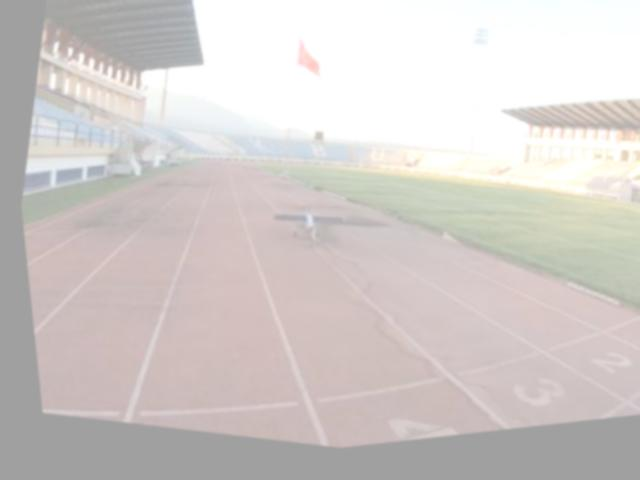uav: (261, 201, 346, 261)
